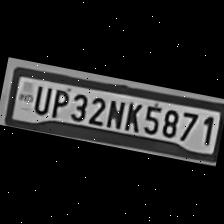1: (194, 112, 218, 148)
2: (85, 92, 108, 126)
3: (65, 88, 90, 122)
5: (138, 101, 164, 136)
7: (176, 107, 200, 144)
8: (156, 104, 182, 140)
K: (120, 99, 144, 134)
N: (102, 96, 126, 130)
P: (46, 84, 72, 118)
U: (29, 81, 54, 116)
